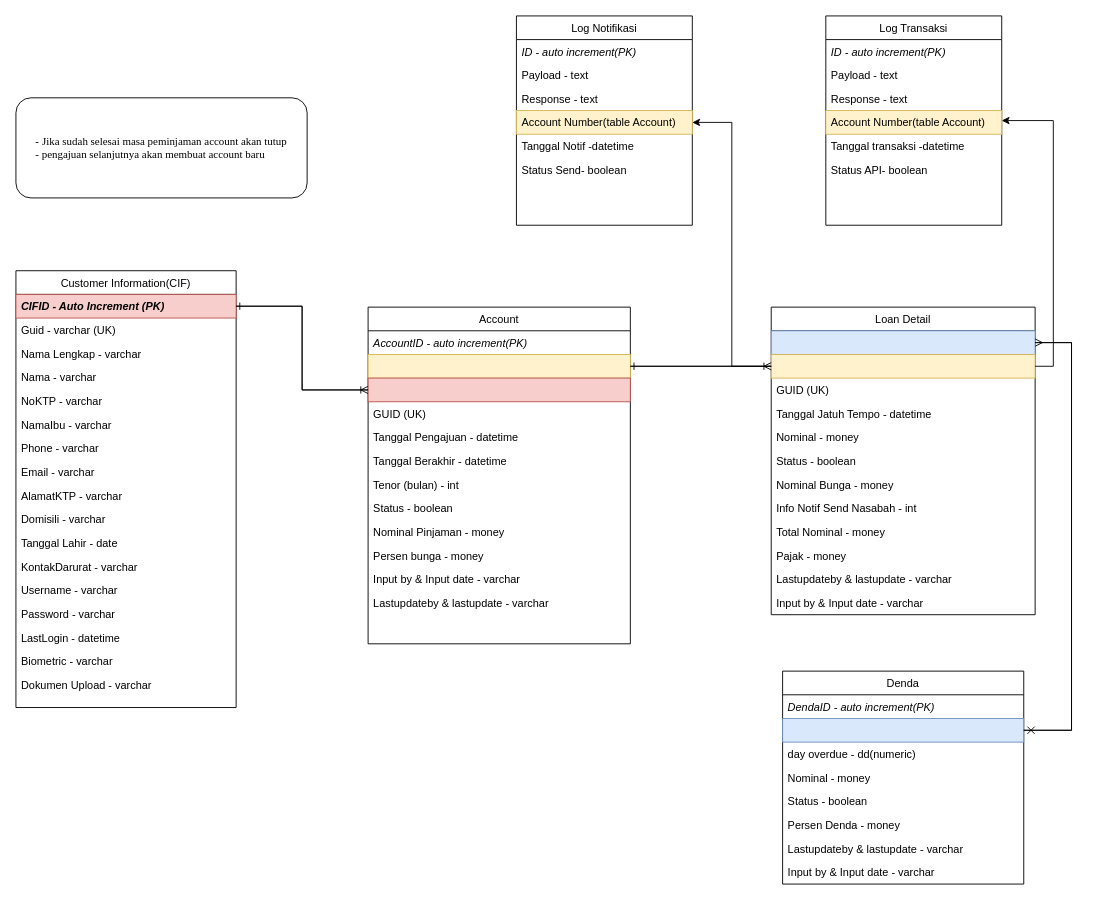
Some shapes in this 1095 by 903 pixel diagram are drawn without their labels. The shapes that lost their labels are listed below. From the top down, each one's centre as x and y in pixels, then its label:
At point 902,342: "LoanID - auto increment(PK)".
At point 498,366: "Account Number - numeric (UK)".
At point 902,366: "Account Number(table Account) - numeric".
At point 498,389: "CIFID (tale customer) - numeric".
At point 903,730: "LoanId(table Loan) - numeric".
